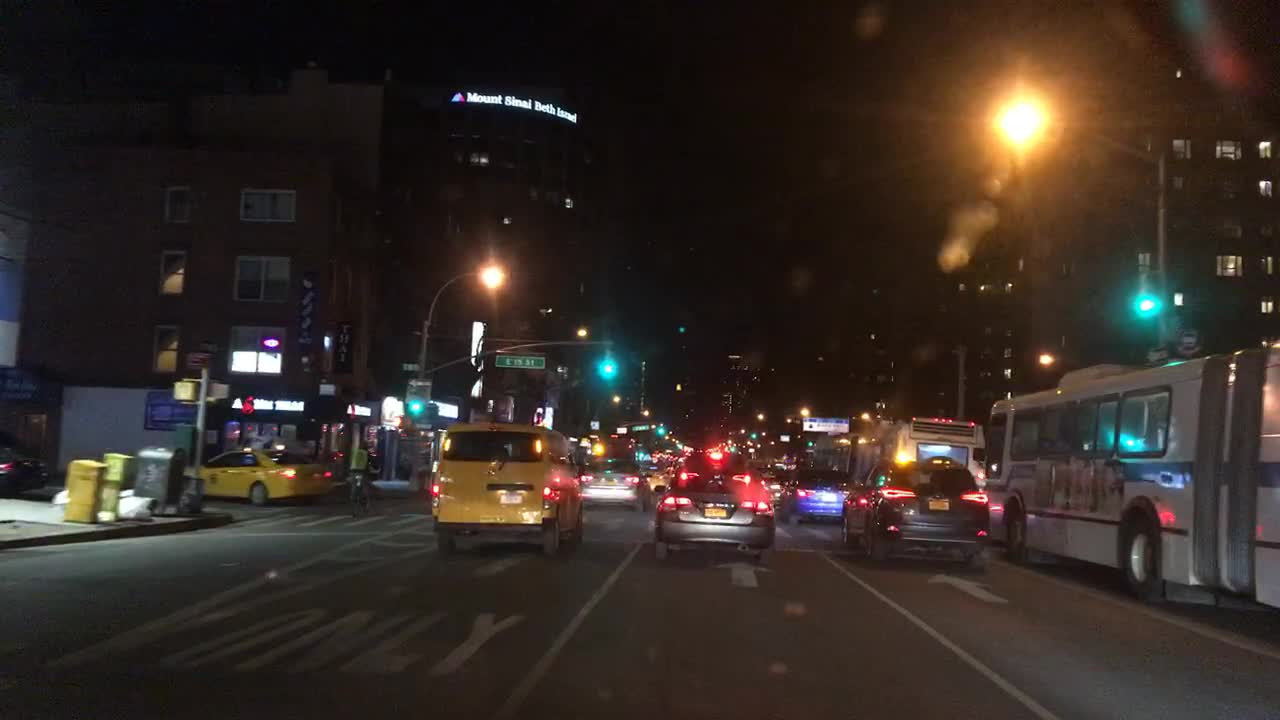bike: (344, 466, 375, 518)
bus: (985, 342, 1277, 623), (816, 412, 988, 486)
car: (428, 418, 588, 552), (836, 452, 992, 562), (649, 449, 769, 555), (183, 446, 334, 506), (779, 468, 862, 525), (578, 457, 654, 511), (237, 434, 302, 451), (761, 471, 784, 503), (647, 467, 669, 489), (745, 457, 764, 471)
traffic light: (172, 379, 200, 404), (1139, 276, 1151, 310), (602, 350, 612, 375), (411, 392, 421, 414)
traffic sign: (494, 353, 546, 370), (187, 352, 212, 367), (410, 376, 431, 388), (317, 382, 335, 394), (404, 363, 423, 371)
